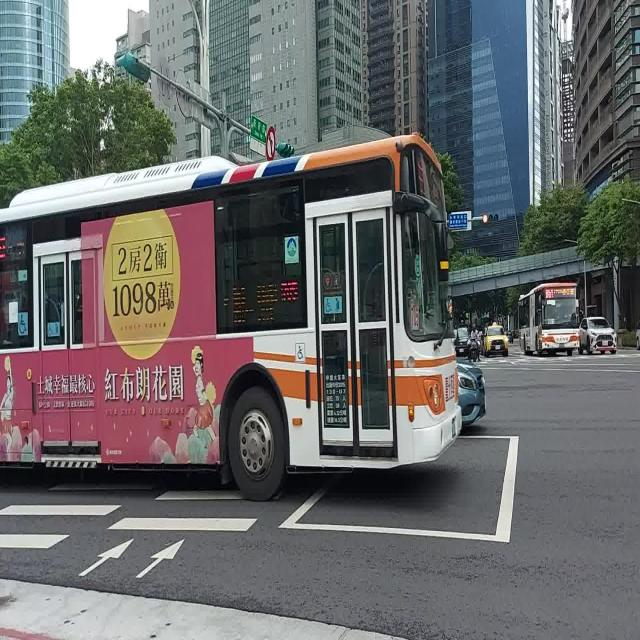bus: (0, 136, 461, 500), (518, 282, 580, 356), (224, 273, 225, 277)
car: (458, 360, 486, 428), (580, 316, 616, 353), (484, 324, 509, 356)
crosswalk: (106, 488, 260, 531), (0, 502, 123, 547)
motocycle: (0, 133, 465, 500), (469, 340, 479, 362)
